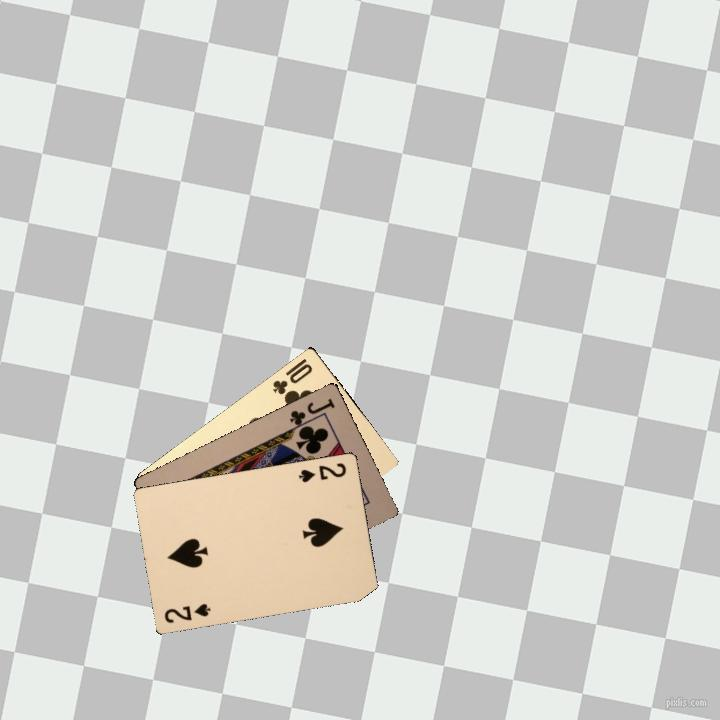10c: (268, 354, 315, 397)
2s: (295, 459, 349, 485), (160, 600, 213, 626)
Jc: (285, 394, 337, 433)
